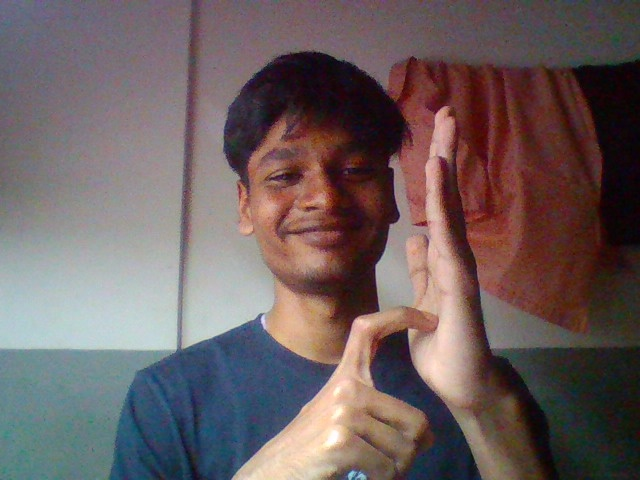H: (230, 96, 576, 480)
